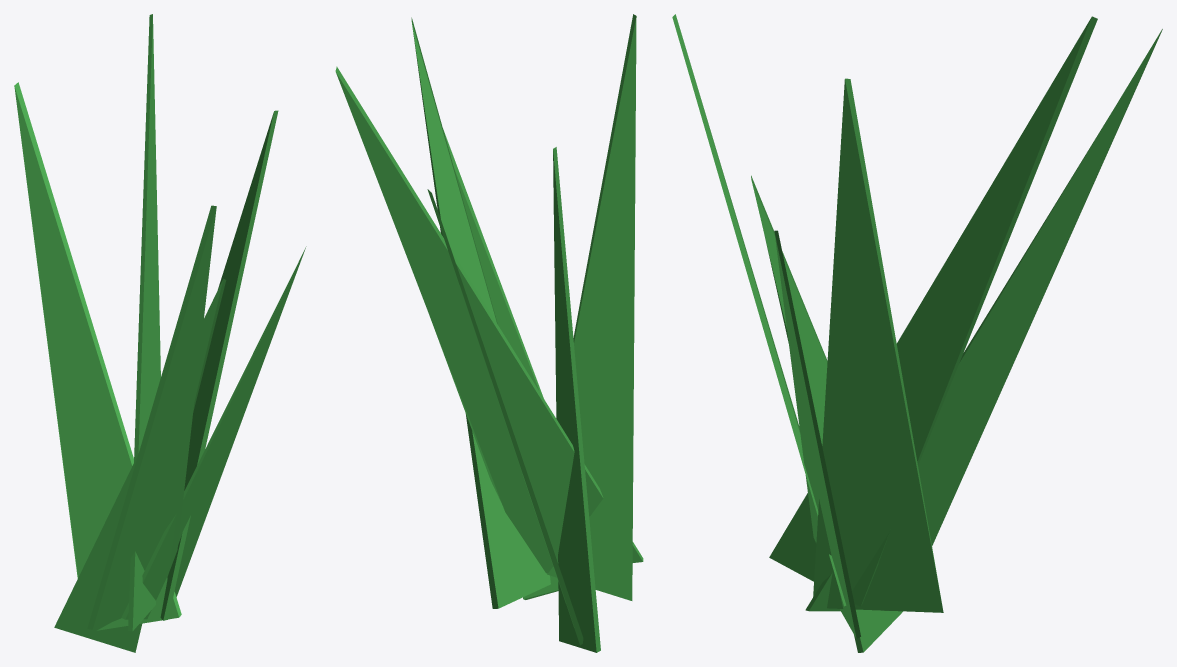
File: Grass Blades.glb
The picture shows the model from 3 angles, left to right: view 1: azimuth 30°, elevation 25°; view 2: azimuth 150°, elevation 25°; view 3: azimuth 270°, elevation 25°; orthographic projection. The views are drawn at different scales.
Visible parts, largest first — view 1: group2065985039, group634107718; view 2: group2065985039, group634107718; view 3: group2065985039, group634107718.
Boxes of the visible parts, x1,y1,x2,y2 form: group2065985039: (14, 14, 306, 652); group634107718: (87, 205, 216, 629); group2065985039: (335, 17, 643, 652); group634107718: (547, 14, 636, 600); group2065985039: (751, 16, 1162, 652); group634107718: (672, 14, 846, 606).
Size of the model in its own units: 0.2074 by 0.5467 by 0.3448.
